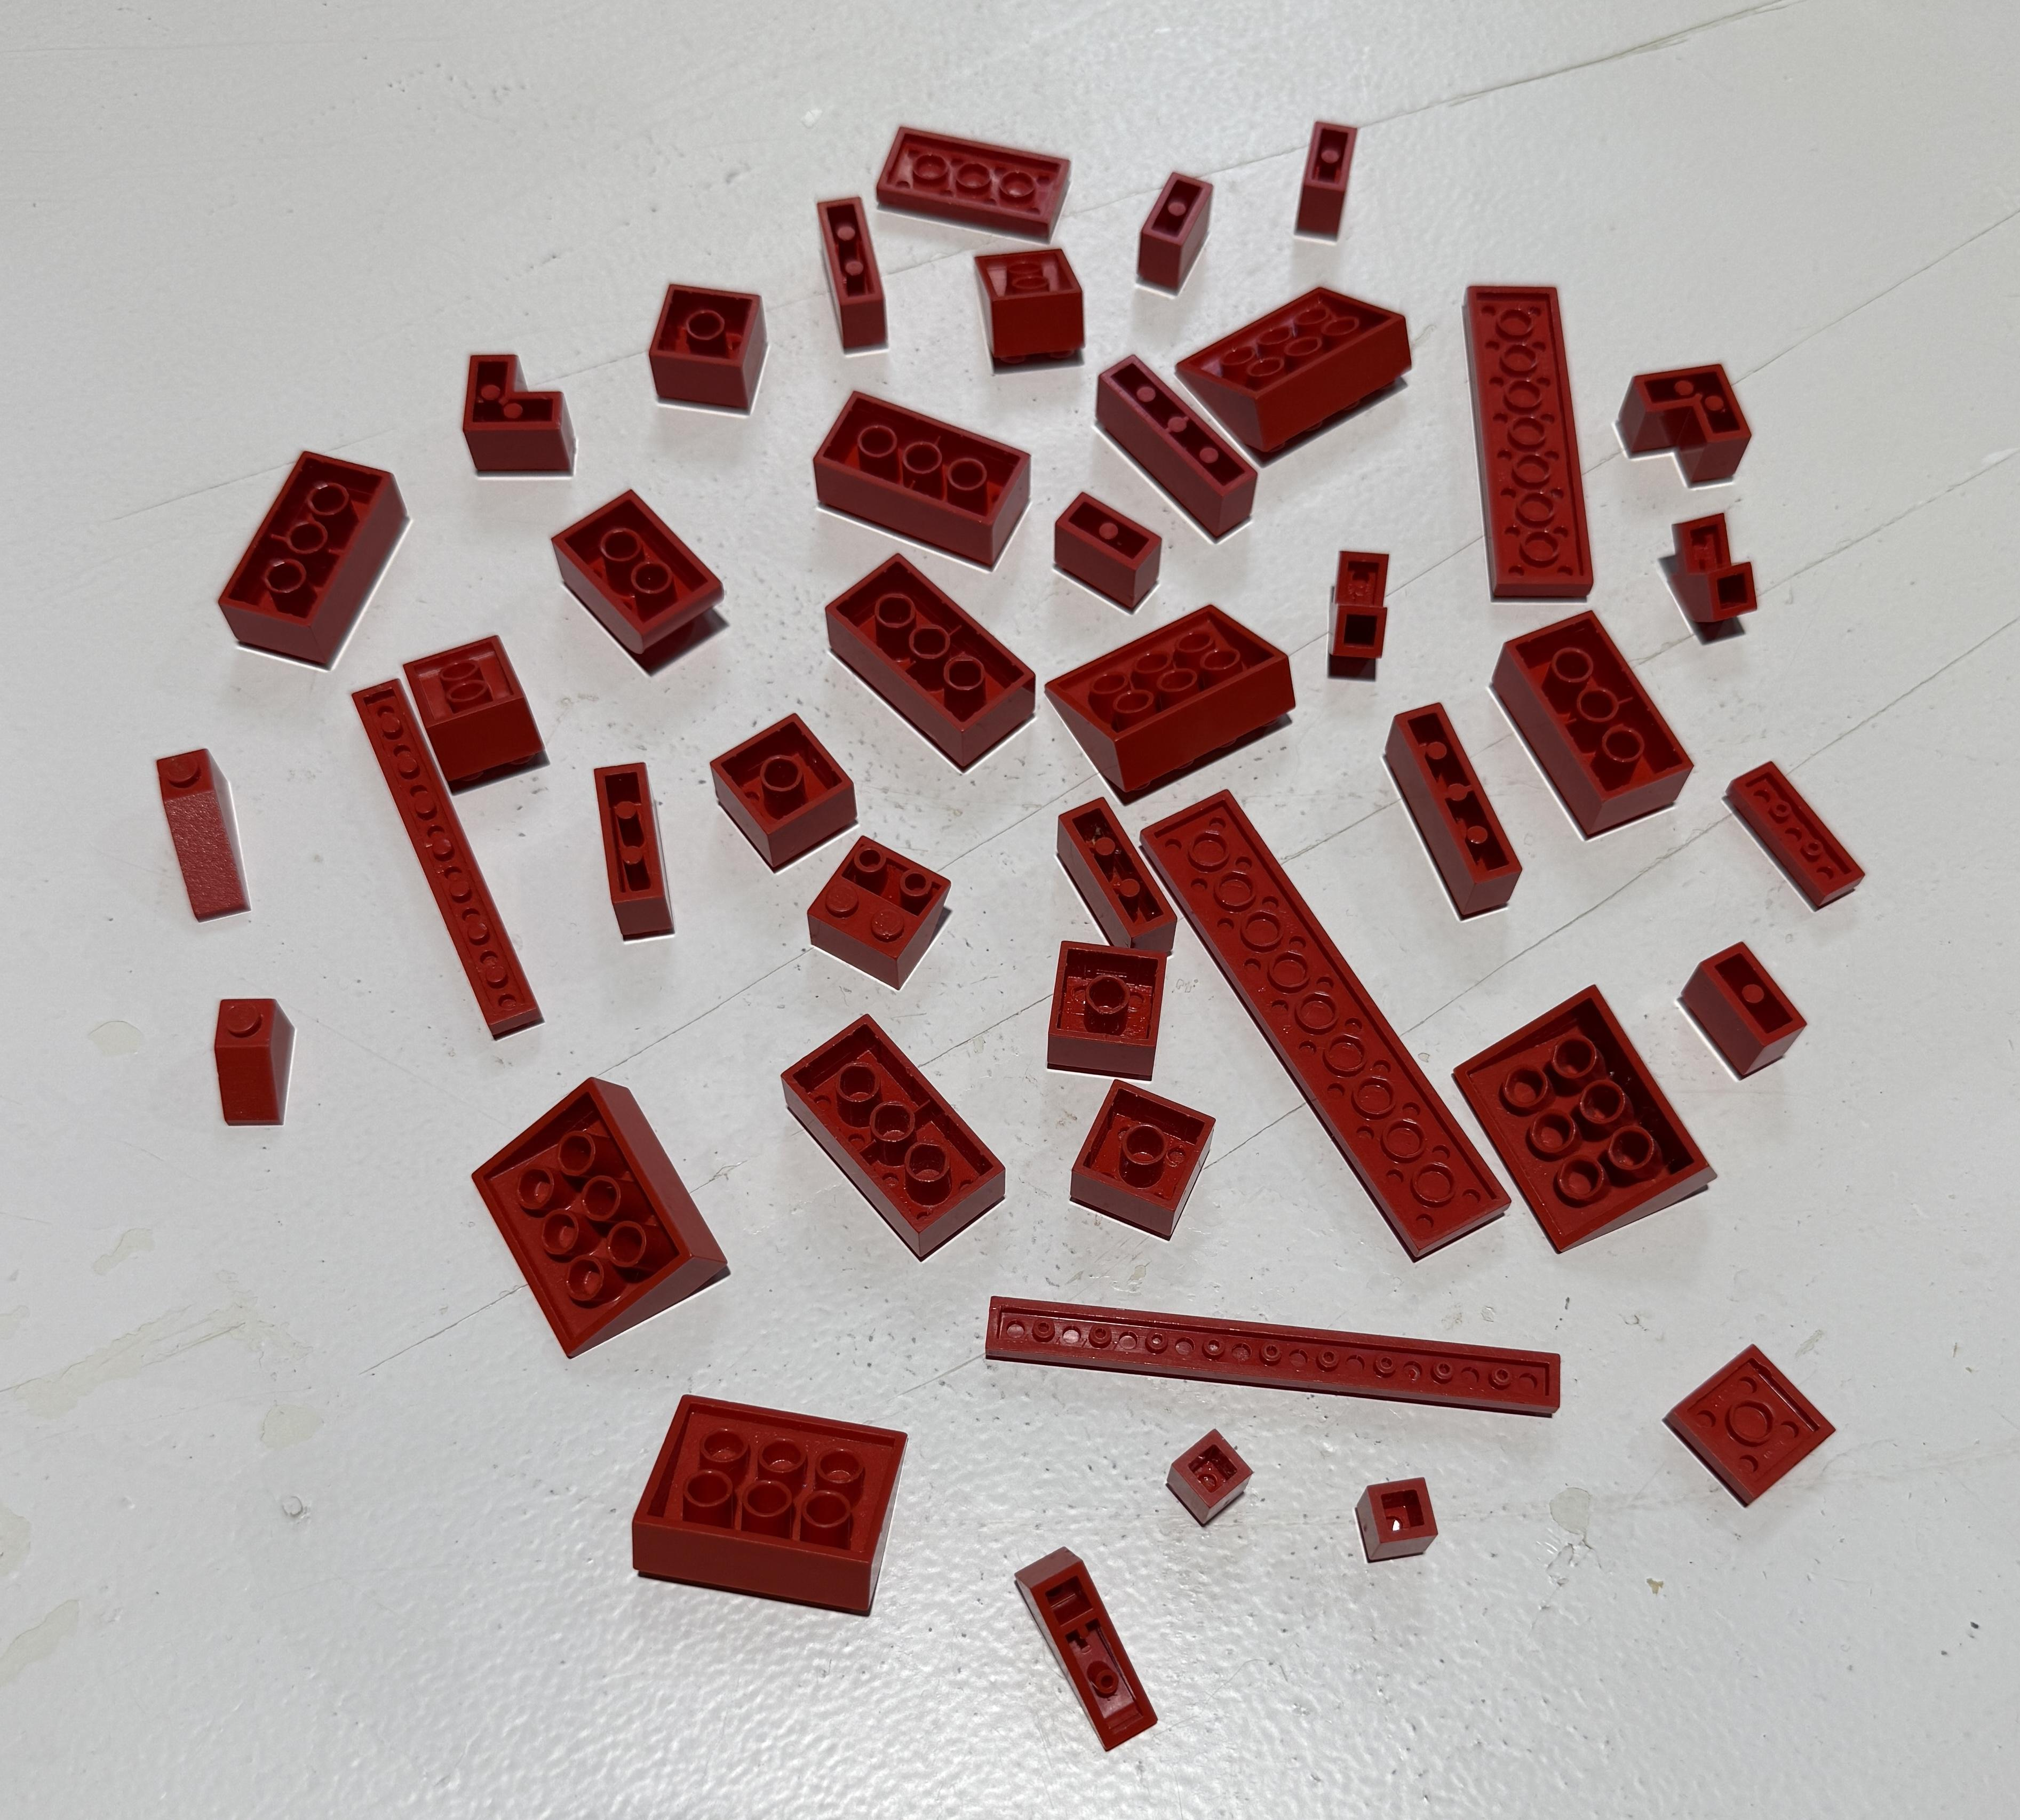brick_1x1: (1338, 1456, 1456, 1586), (1161, 1428, 1254, 1537)
brick_1x2: (1670, 910, 1827, 1103), (1024, 467, 1207, 618), (1121, 142, 1244, 295), (1275, 105, 1389, 253)
brick_1x3: (1035, 780, 1196, 982), (585, 713, 692, 950), (803, 174, 919, 372)
brick_1x4: (1372, 676, 1532, 945), (1080, 337, 1275, 550)
brick_2x2: (1045, 1065, 1231, 1244), (699, 703, 868, 875), (634, 265, 789, 423), (1028, 926, 1172, 1087)
brick_2x4: (778, 1001, 1024, 1281), (813, 534, 1047, 791), (1486, 589, 1702, 856), (200, 430, 423, 687), (806, 378, 1059, 585)
plate_2x2: (1646, 1332, 1869, 1528)
special_08: (458, 1036, 748, 1384), (1440, 961, 1735, 1274), (1173, 276, 1444, 492), (1050, 590, 1310, 801)
